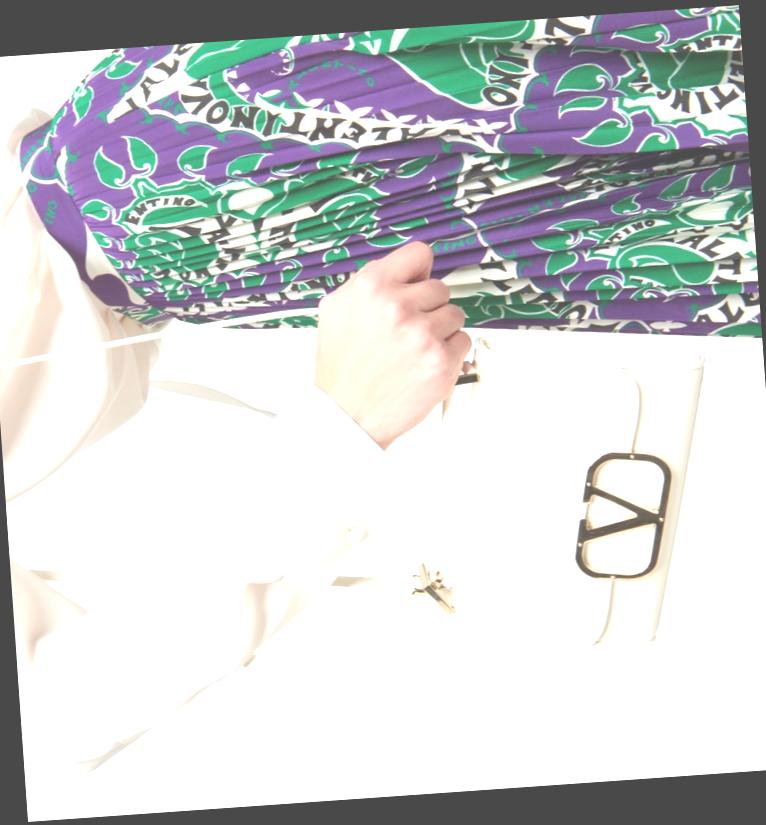VALENTINO: (566, 447, 676, 581)
